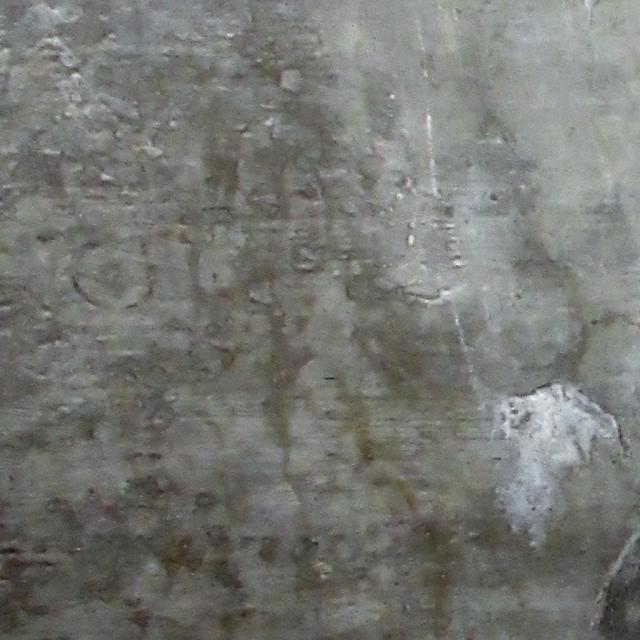D01: (498, 382, 621, 546)
